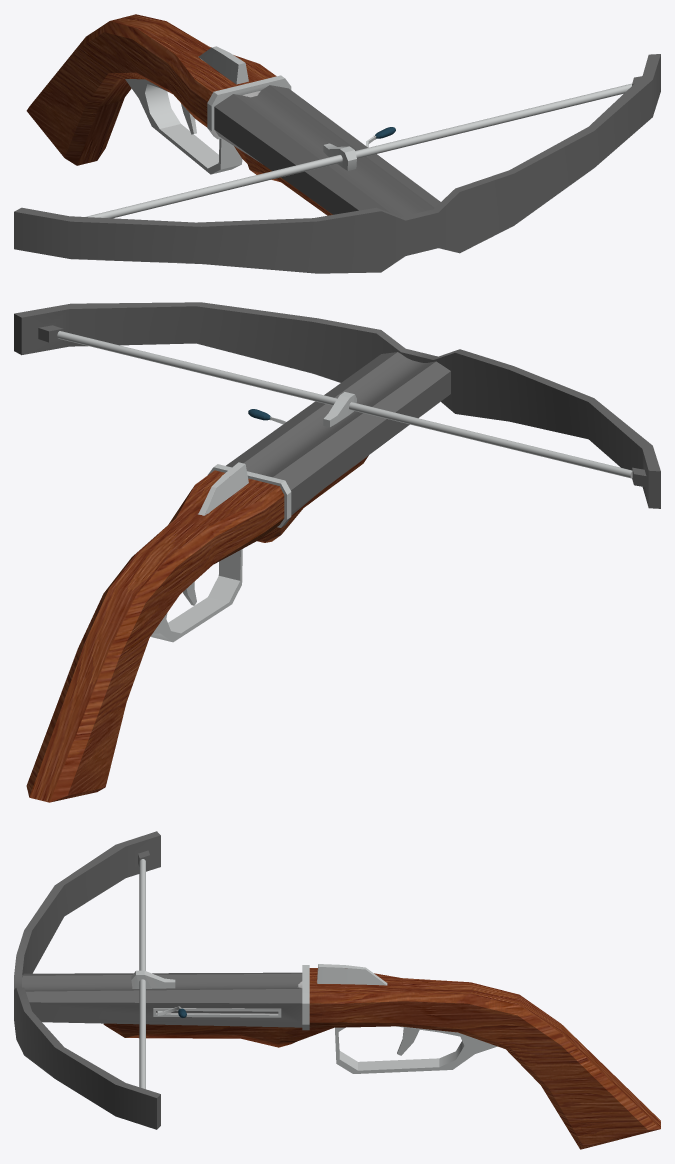
Rendered from сrossbow.fbx.
The picture shows the model from 3 angles, top to bottom: view 1: azimuth 30°, elevation 25°; view 2: azimuth 150°, elevation 25°; view 3: azimuth 270°, elevation 25°; orthographic projection. The views are drawn at different scales.
Visible parts, largest first — view 1: Crossbow; view 2: Crossbow; view 3: Crossbow.
Part boxes in pixels (x1,y1,x2,y2): Crossbow: (14,14,660,273); Crossbow: (14,302,660,802); Crossbow: (14,831,660,1149).
Size of the model in its own units: 143 by 45.22 by 147.
Materials: 1 (1 with a texture image).
